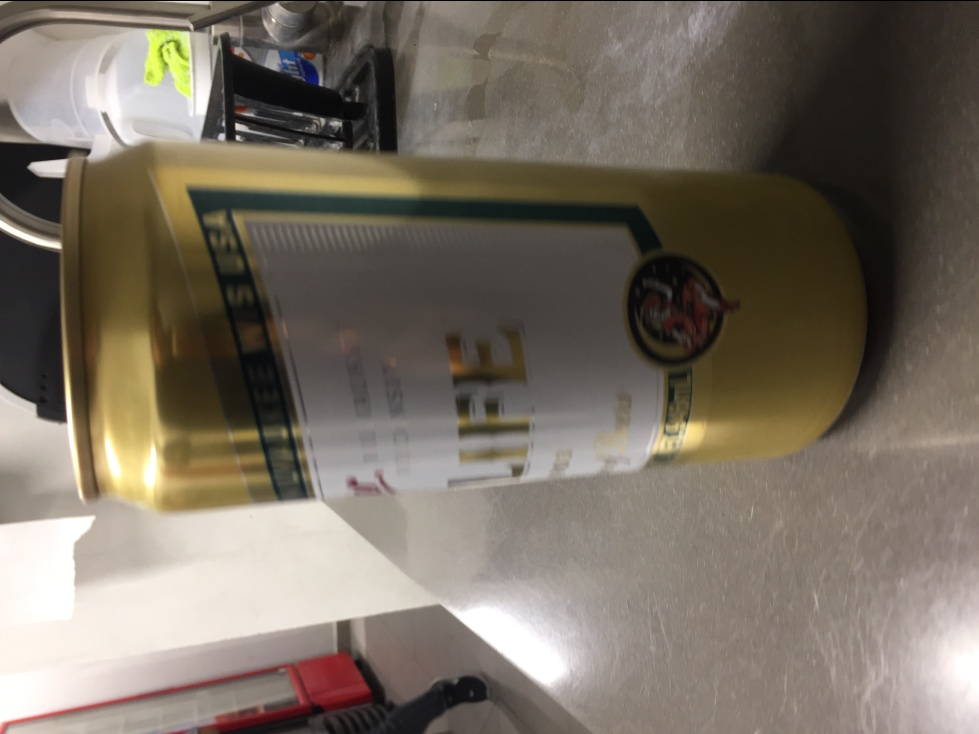miller: (52, 133, 879, 514)
